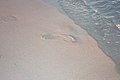human_footprint: (41, 31, 82, 44)
